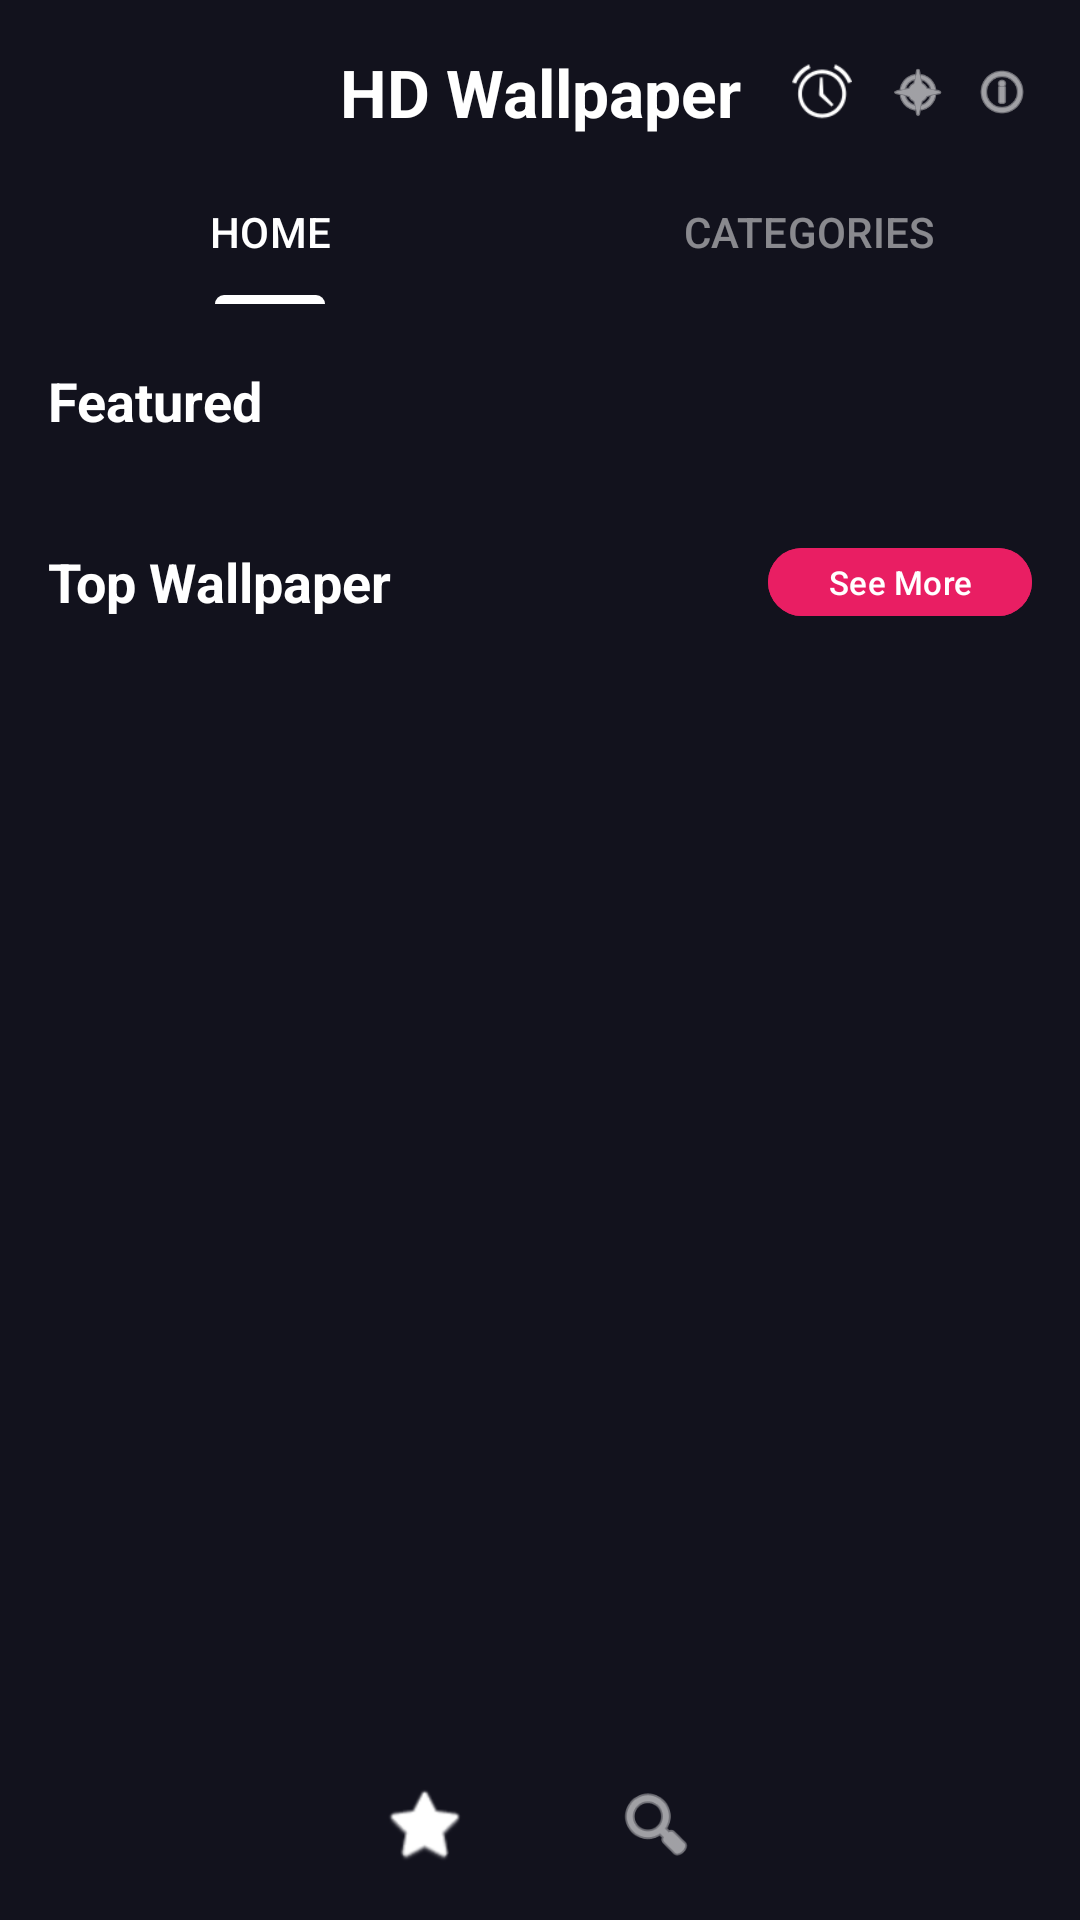

Icons on this 1080px×1920px Android screen, each with the point to tap as [x,y]:
compass: [917,92]
info details: [1002,92]
lock idle alarm: [822,91]
search: [656,1824]
star off: [425,1825]
